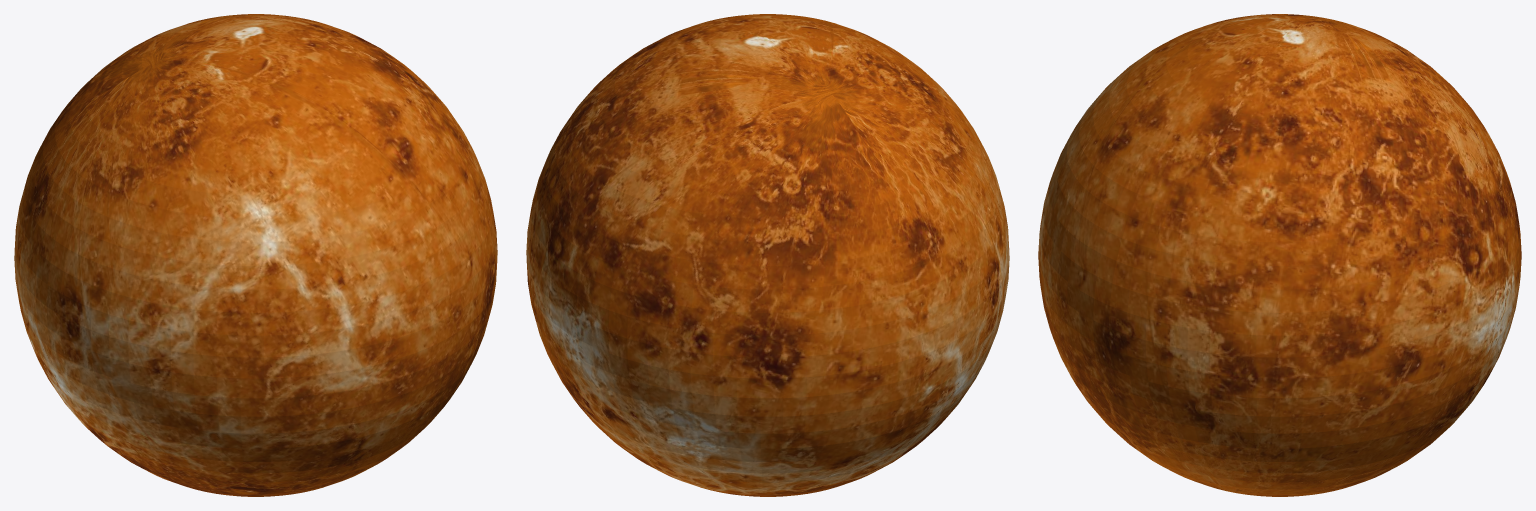
File: venus.obj
The picture shows the model from 3 angles, left to right: view 1: azimuth 30°, elevation 25°; view 2: azimuth 150°, elevation 25°; view 3: azimuth 270°, elevation 25°; orthographic projection.
Visible parts, largest first — view 1: Sphere; view 2: Sphere; view 3: Sphere.
Part boxes in pixels (bbox=[...]): Sphere: bbox=[14, 14, 497, 496]; Sphere: bbox=[526, 14, 1009, 496]; Sphere: bbox=[1038, 14, 1521, 496].
Size of the model in its own units: 12.1 by 12.1 by 12.1.
